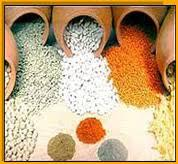Organic: (6, 9, 173, 164)
